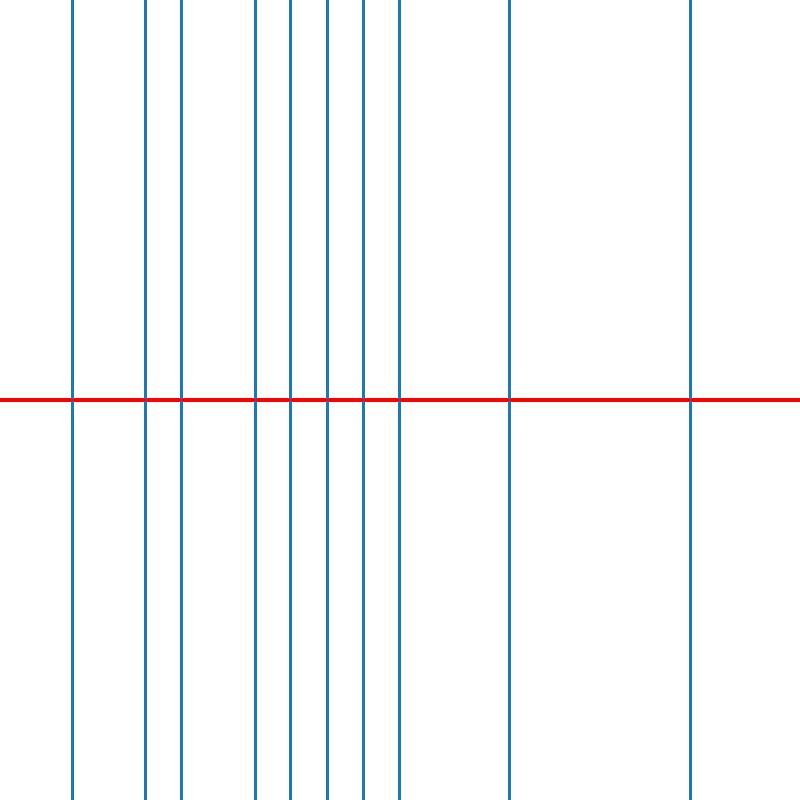root: (141, 396, 149, 404), (250, 396, 258, 404), (323, 396, 330, 404), (505, 396, 512, 404), (69, 396, 76, 404), (287, 396, 294, 404), (360, 396, 367, 404), (178, 396, 185, 404), (396, 396, 403, 404), (687, 396, 694, 404)
